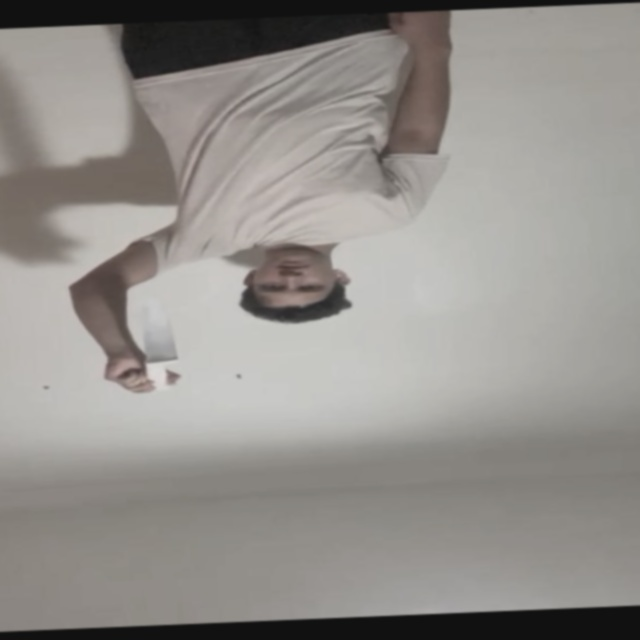Sharp-Object: (141, 299, 178, 365)
